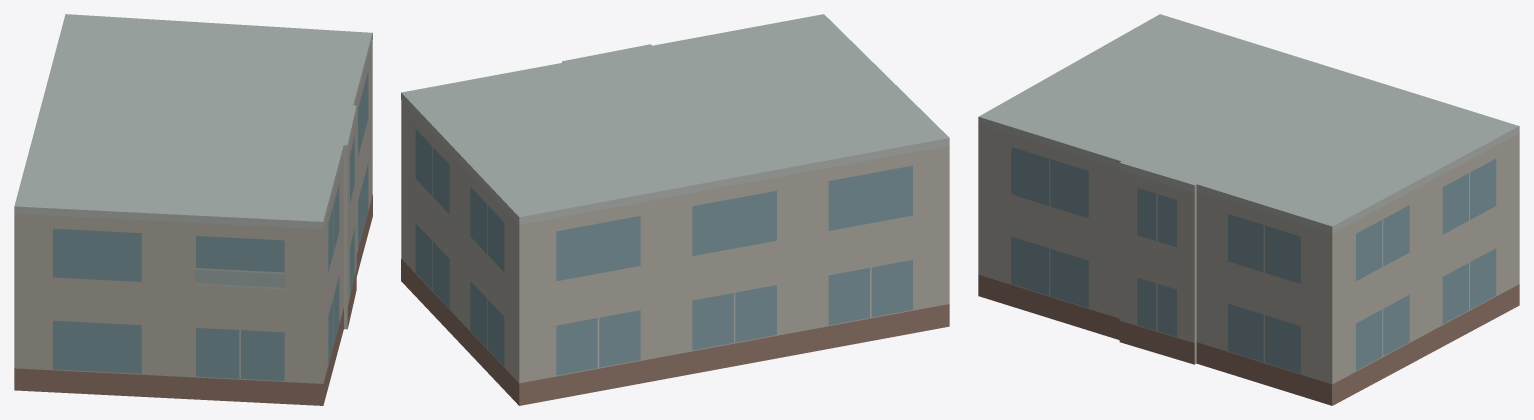
The model's file is survey-upis-32613211.glb.
3 renders of one model, left to right at view 1: azimuth 30°, elevation 25°; view 2: azimuth 150°, elevation 25°; view 3: azimuth 270°, elevation 25°, orthographic. The views are drawn at different scales.
Parts seen in each view (by area): view 1: survey-upis-32613211.tmp; view 2: survey-upis-32613211.tmp; view 3: survey-upis-32613211.tmp.
Boxes of the visible parts, box(x1,y1,x2,y2) form: survey-upis-32613211.tmp: box(14, 14, 372, 405); survey-upis-32613211.tmp: box(401, 14, 949, 405); survey-upis-32613211.tmp: box(978, 14, 1519, 405).
Bounding box in the file's own units: 15.51 × 6.1 × 16.69.
